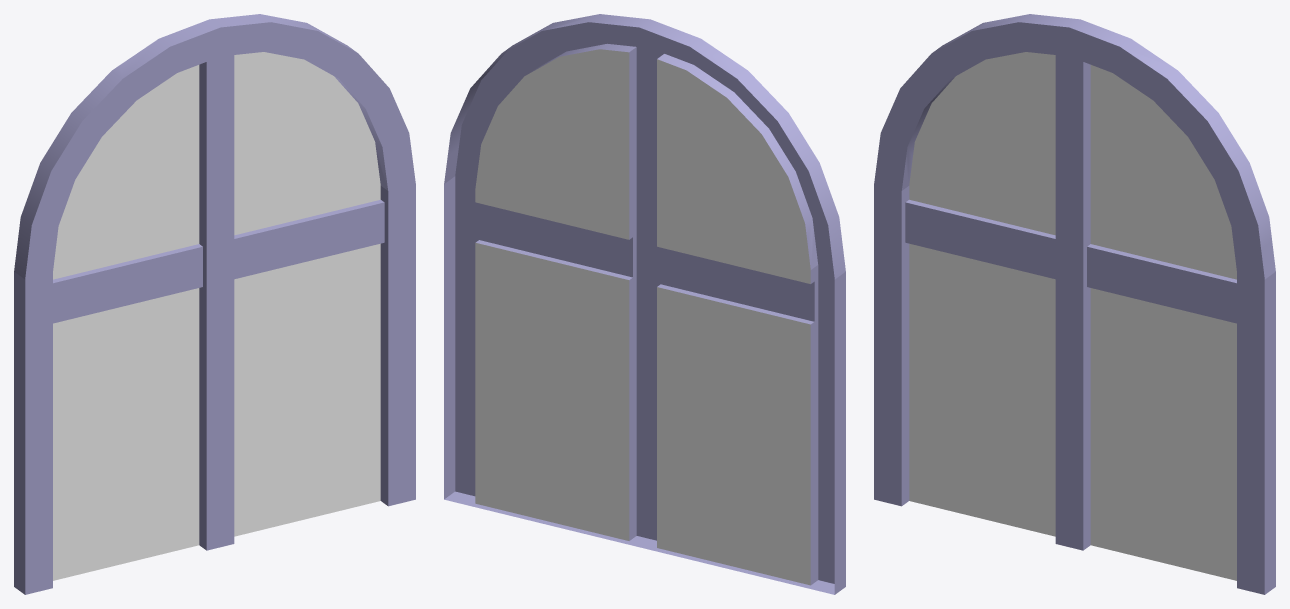
File: door4.obj
The picture shows the model from 3 angles, left to right: view 1: azimuth 30°, elevation 25°; view 2: azimuth 150°, elevation 25°; view 3: azimuth 330°, elevation 25°; orthographic projection.
Visible parts, largest first — view 1: mergedBlocks; view 2: mergedBlocks; view 3: mergedBlocks.
Boxes of the visible parts, box(x1,y1,x2,y2) form: mergedBlocks: box(14, 14, 415, 594); mergedBlocks: box(444, 14, 845, 594); mergedBlocks: box(874, 14, 1275, 594).
Size of the model in its own units: 0.6088 by 0.7738 by 0.03.
